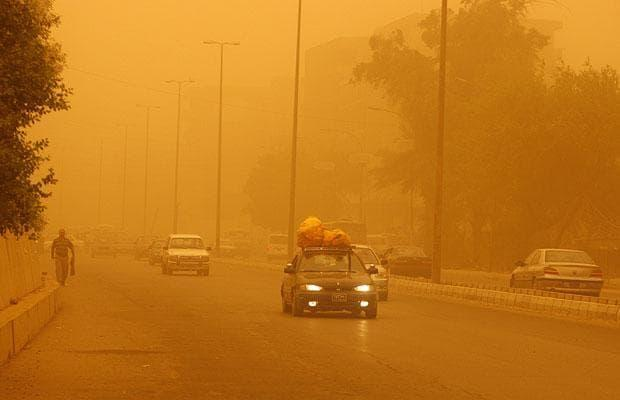backpack: (295, 215, 351, 250), (49, 230, 71, 282), (295, 215, 322, 247), (131, 236, 158, 263), (321, 227, 350, 248), (51, 231, 71, 261), (58, 237, 73, 274), (64, 242, 74, 276), (53, 243, 69, 262), (51, 240, 66, 257)
baseball glove: (296, 215, 351, 248), (295, 215, 322, 248)
bench: (34, 232, 152, 284), (508, 248, 607, 297), (54, 227, 139, 268), (88, 232, 150, 266), (49, 233, 70, 285), (87, 237, 127, 262), (98, 240, 136, 260), (138, 236, 165, 264), (130, 236, 153, 262)
bicycle: (49, 233, 72, 285), (118, 233, 154, 265), (46, 252, 79, 282), (45, 241, 65, 285), (133, 236, 161, 263), (58, 240, 73, 281), (145, 238, 167, 265), (130, 235, 150, 260), (153, 241, 168, 271), (55, 253, 68, 284), (136, 244, 154, 265), (143, 242, 158, 267), (141, 236, 156, 260), (149, 247, 165, 268)
bird: (296, 215, 351, 248), (295, 215, 322, 247)
bus: (508, 249, 604, 297), (289, 214, 350, 252), (159, 233, 210, 276)
car: (298, 232, 431, 315), (279, 244, 381, 319), (278, 221, 377, 284), (508, 249, 603, 295), (273, 218, 341, 274), (277, 239, 335, 298), (72, 227, 151, 267), (319, 241, 388, 285), (370, 243, 430, 289), (289, 214, 350, 252), (160, 232, 212, 276), (349, 245, 388, 298), (357, 247, 408, 286), (145, 233, 195, 272), (131, 232, 170, 270), (92, 228, 138, 260), (368, 247, 396, 297), (359, 256, 385, 307), (116, 231, 157, 261), (382, 243, 427, 268), (51, 232, 72, 285), (386, 250, 429, 275), (356, 247, 383, 286), (363, 244, 393, 278), (108, 237, 146, 263), (142, 233, 177, 261), (348, 244, 381, 273), (378, 247, 412, 275), (299, 244, 346, 264), (340, 241, 379, 263), (368, 242, 402, 267), (134, 237, 162, 263), (373, 246, 397, 274), (365, 236, 392, 260), (373, 260, 388, 300), (145, 238, 167, 265), (157, 238, 173, 274), (393, 245, 428, 261), (138, 234, 166, 254), (374, 249, 389, 285), (265, 233, 287, 257), (368, 247, 389, 271), (130, 235, 150, 260), (359, 254, 379, 279), (153, 241, 168, 271), (355, 245, 380, 263), (196, 247, 210, 276), (142, 243, 159, 266), (133, 235, 155, 252), (349, 243, 374, 257), (379, 249, 391, 278), (149, 247, 165, 268), (127, 238, 143, 259), (379, 246, 394, 268), (362, 250, 378, 269), (200, 243, 212, 268), (156, 251, 169, 274), (365, 248, 382, 264)
cat: (295, 216, 350, 247), (295, 215, 322, 247), (320, 226, 351, 247)
cell phone: (279, 244, 383, 318)
chair: (49, 231, 71, 283), (86, 227, 118, 259), (299, 244, 344, 265), (133, 236, 161, 263)
cow: (289, 214, 350, 252)
dog: (295, 216, 350, 247), (295, 215, 322, 248), (320, 226, 351, 247)
donut: (296, 215, 351, 248), (295, 215, 322, 247)
elephant: (290, 214, 349, 252)
fire hydrant: (51, 232, 72, 285)
handbag: (49, 230, 71, 282), (295, 215, 322, 247), (51, 231, 71, 261), (64, 242, 74, 276), (51, 240, 66, 257)
horse: (290, 214, 349, 252), (51, 232, 72, 285), (58, 240, 73, 281), (50, 248, 66, 286), (130, 236, 153, 262)
motorcycle: (157, 232, 210, 276), (290, 214, 349, 252), (114, 233, 164, 266), (132, 234, 174, 272), (49, 233, 72, 285), (133, 236, 161, 263), (157, 238, 173, 274), (144, 238, 165, 265), (130, 237, 149, 262), (153, 241, 168, 271), (136, 244, 154, 265), (139, 248, 161, 264), (149, 247, 165, 268)
person: (325, 26, 413, 166), (362, 12, 429, 151), (279, 232, 380, 313), (39, 225, 150, 272), (387, 24, 431, 134), (367, 25, 418, 112), (350, 35, 396, 110), (334, 36, 381, 107), (311, 37, 370, 89), (281, 215, 332, 268), (342, 243, 389, 298), (73, 225, 136, 266), (291, 213, 350, 253), (403, 25, 436, 96), (157, 232, 210, 276), (394, 21, 436, 67), (380, 29, 413, 81), (383, 26, 422, 65), (347, 49, 383, 89), (50, 228, 74, 282), (362, 45, 391, 89), (365, 248, 388, 295), (356, 247, 383, 286), (86, 227, 118, 259), (413, 22, 437, 64), (99, 228, 130, 260), (109, 234, 142, 263), (297, 248, 340, 270), (299, 244, 347, 263), (62, 230, 81, 277), (295, 215, 322, 248), (47, 237, 65, 284), (150, 236, 172, 271), (328, 235, 350, 270), (142, 235, 166, 267), (53, 241, 70, 286), (60, 239, 76, 286), (377, 246, 394, 290), (131, 236, 158, 263), (56, 232, 73, 269), (50, 227, 70, 258), (126, 234, 148, 262), (321, 228, 350, 248), (417, 18, 434, 51), (59, 228, 76, 258), (325, 251, 349, 271), (375, 247, 392, 275), (389, 27, 406, 54), (306, 254, 335, 269), (317, 255, 344, 270), (156, 243, 169, 274), (54, 228, 73, 247), (64, 244, 75, 276), (63, 257, 75, 286), (55, 235, 73, 254), (61, 247, 72, 278), (380, 246, 394, 269), (62, 229, 75, 249), (64, 236, 74, 260)
potted plant: (0, 2, 84, 283), (0, 131, 101, 296), (0, 116, 56, 249), (0, 207, 57, 273), (0, 181, 51, 251), (290, 214, 349, 252)
sheep: (296, 215, 350, 247), (295, 215, 322, 248)
sports ball: (295, 215, 322, 247)
suitcase: (508, 248, 603, 296), (290, 214, 349, 252), (295, 215, 322, 247)
teddy bear: (282, 214, 336, 260), (296, 215, 350, 247), (295, 215, 322, 248), (315, 218, 342, 249), (320, 226, 351, 247), (319, 229, 339, 246)
traffic light: (289, 214, 350, 252)
truck: (279, 240, 381, 318), (509, 248, 602, 296), (159, 232, 210, 276), (290, 214, 349, 252), (350, 246, 389, 297), (144, 233, 178, 269), (136, 238, 163, 265), (131, 236, 155, 261), (265, 233, 287, 257)
umbrella: (507, 248, 605, 293), (290, 214, 349, 252), (295, 215, 322, 248)
zebra: (51, 232, 72, 285)
